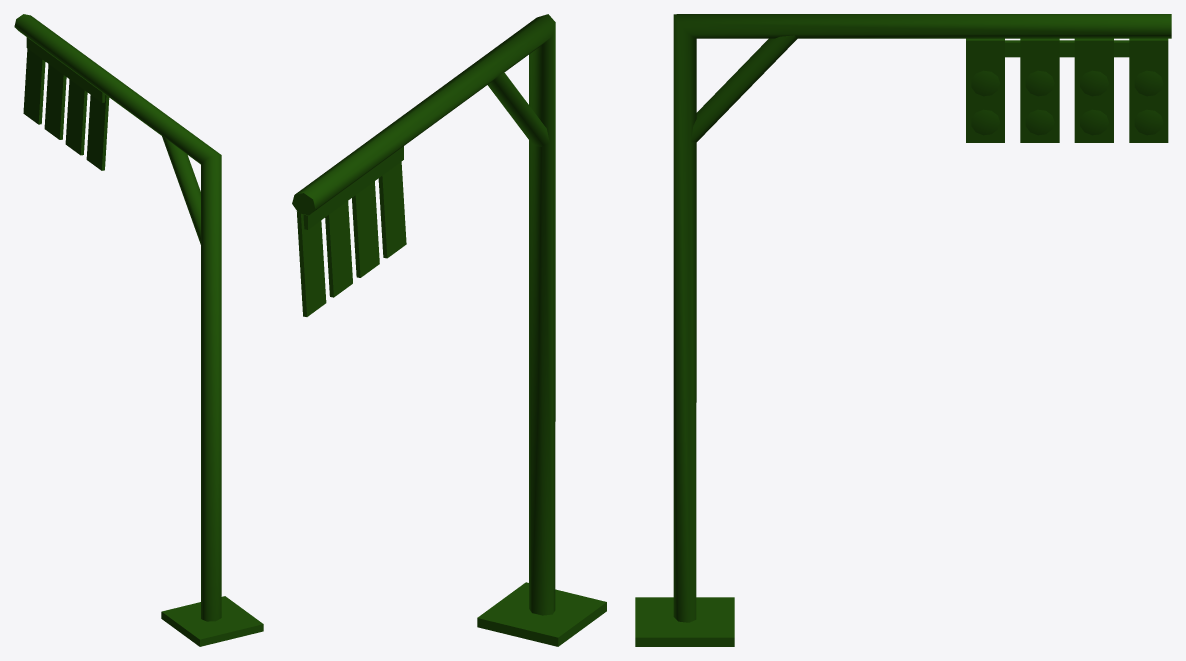
Rendered from T2_Lights01.fbx.
3 views of the same model, side by side, from view 1: azimuth 30°, elevation 25°; view 2: azimuth 150°, elevation 25°; view 3: azimuth 270°, elevation 25° (orthographic). The views are drawn at different scales.
Visible parts, largest first — view 1: T2_Lights01; view 2: T2_Lights01; view 3: T2_Lights01, T2_Lights01_L1.
Part boxes in pixels (left/top/right/bottom): T2_Lights01: left=14, top=14, right=263, bottom=646; T2_Lights01: left=292, top=14, right=606, bottom=646; T2_Lights01: left=635, top=14, right=1171, bottom=646; T2_Lights01_L1: left=971, top=70, right=1163, bottom=135.
Size of the model in its own units: 0.2991 by 2.12 by 1.69.
